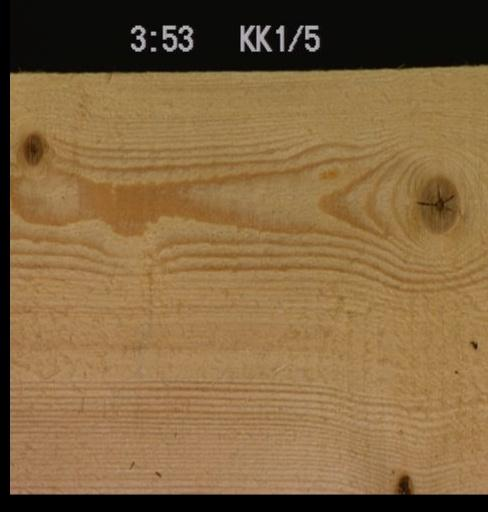edge_knot: (393, 471, 415, 493)
sound_knot: (413, 172, 461, 234), (19, 127, 47, 166)
